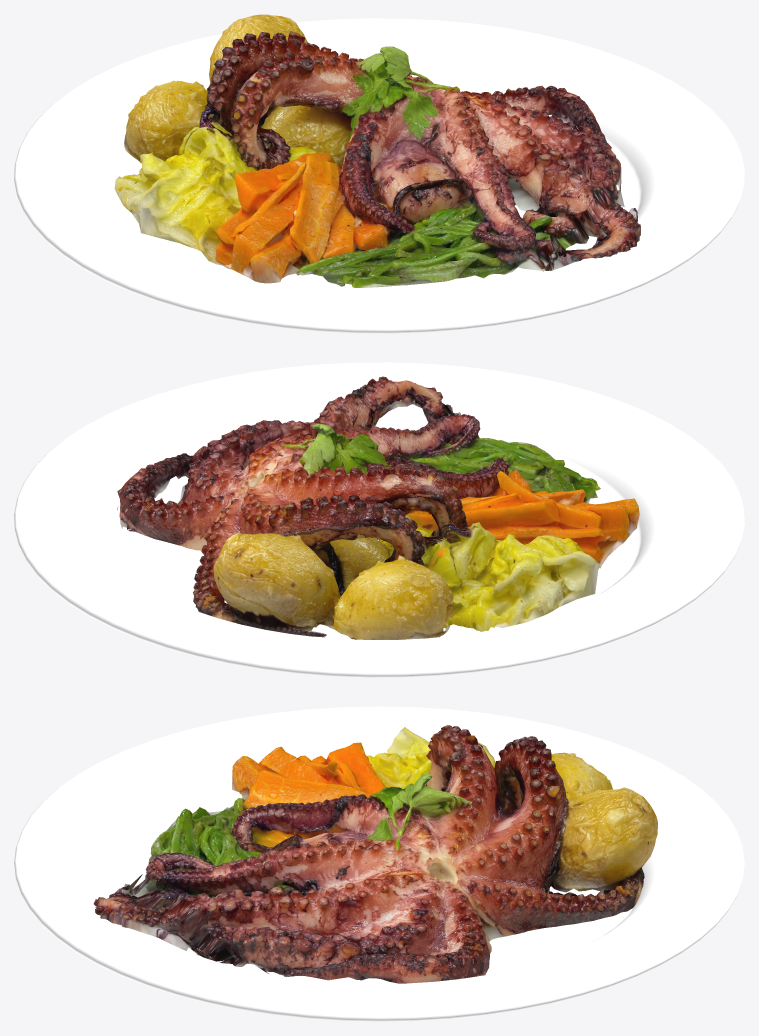
File: Polvo.glb
3 renders of one model, top to bottom at view 1: azimuth 30°, elevation 25°; view 2: azimuth 150°, elevation 25°; view 3: azimuth 270°, elevation 25°, orthographic.
Parts seen in each view (by area): view 1: Mesh_0.001, Circle; view 2: Circle, Mesh_0.001; view 3: Mesh_0.001, Circle.
Boxes of the visible parts, box(x1,y1,x2,y2) form: Mesh_0.001: box(114, 14, 640, 287); Circle: box(14, 18, 744, 333); Circle: box(14, 362, 744, 677); Mesh_0.001: box(117, 376, 639, 639); Mesh_0.001: box(93, 725, 657, 983); Circle: box(14, 706, 744, 1021).
Bounding box in the file's own units: 0.3188 × 0.0651 × 0.3188.
2 materials, 1 textured.
